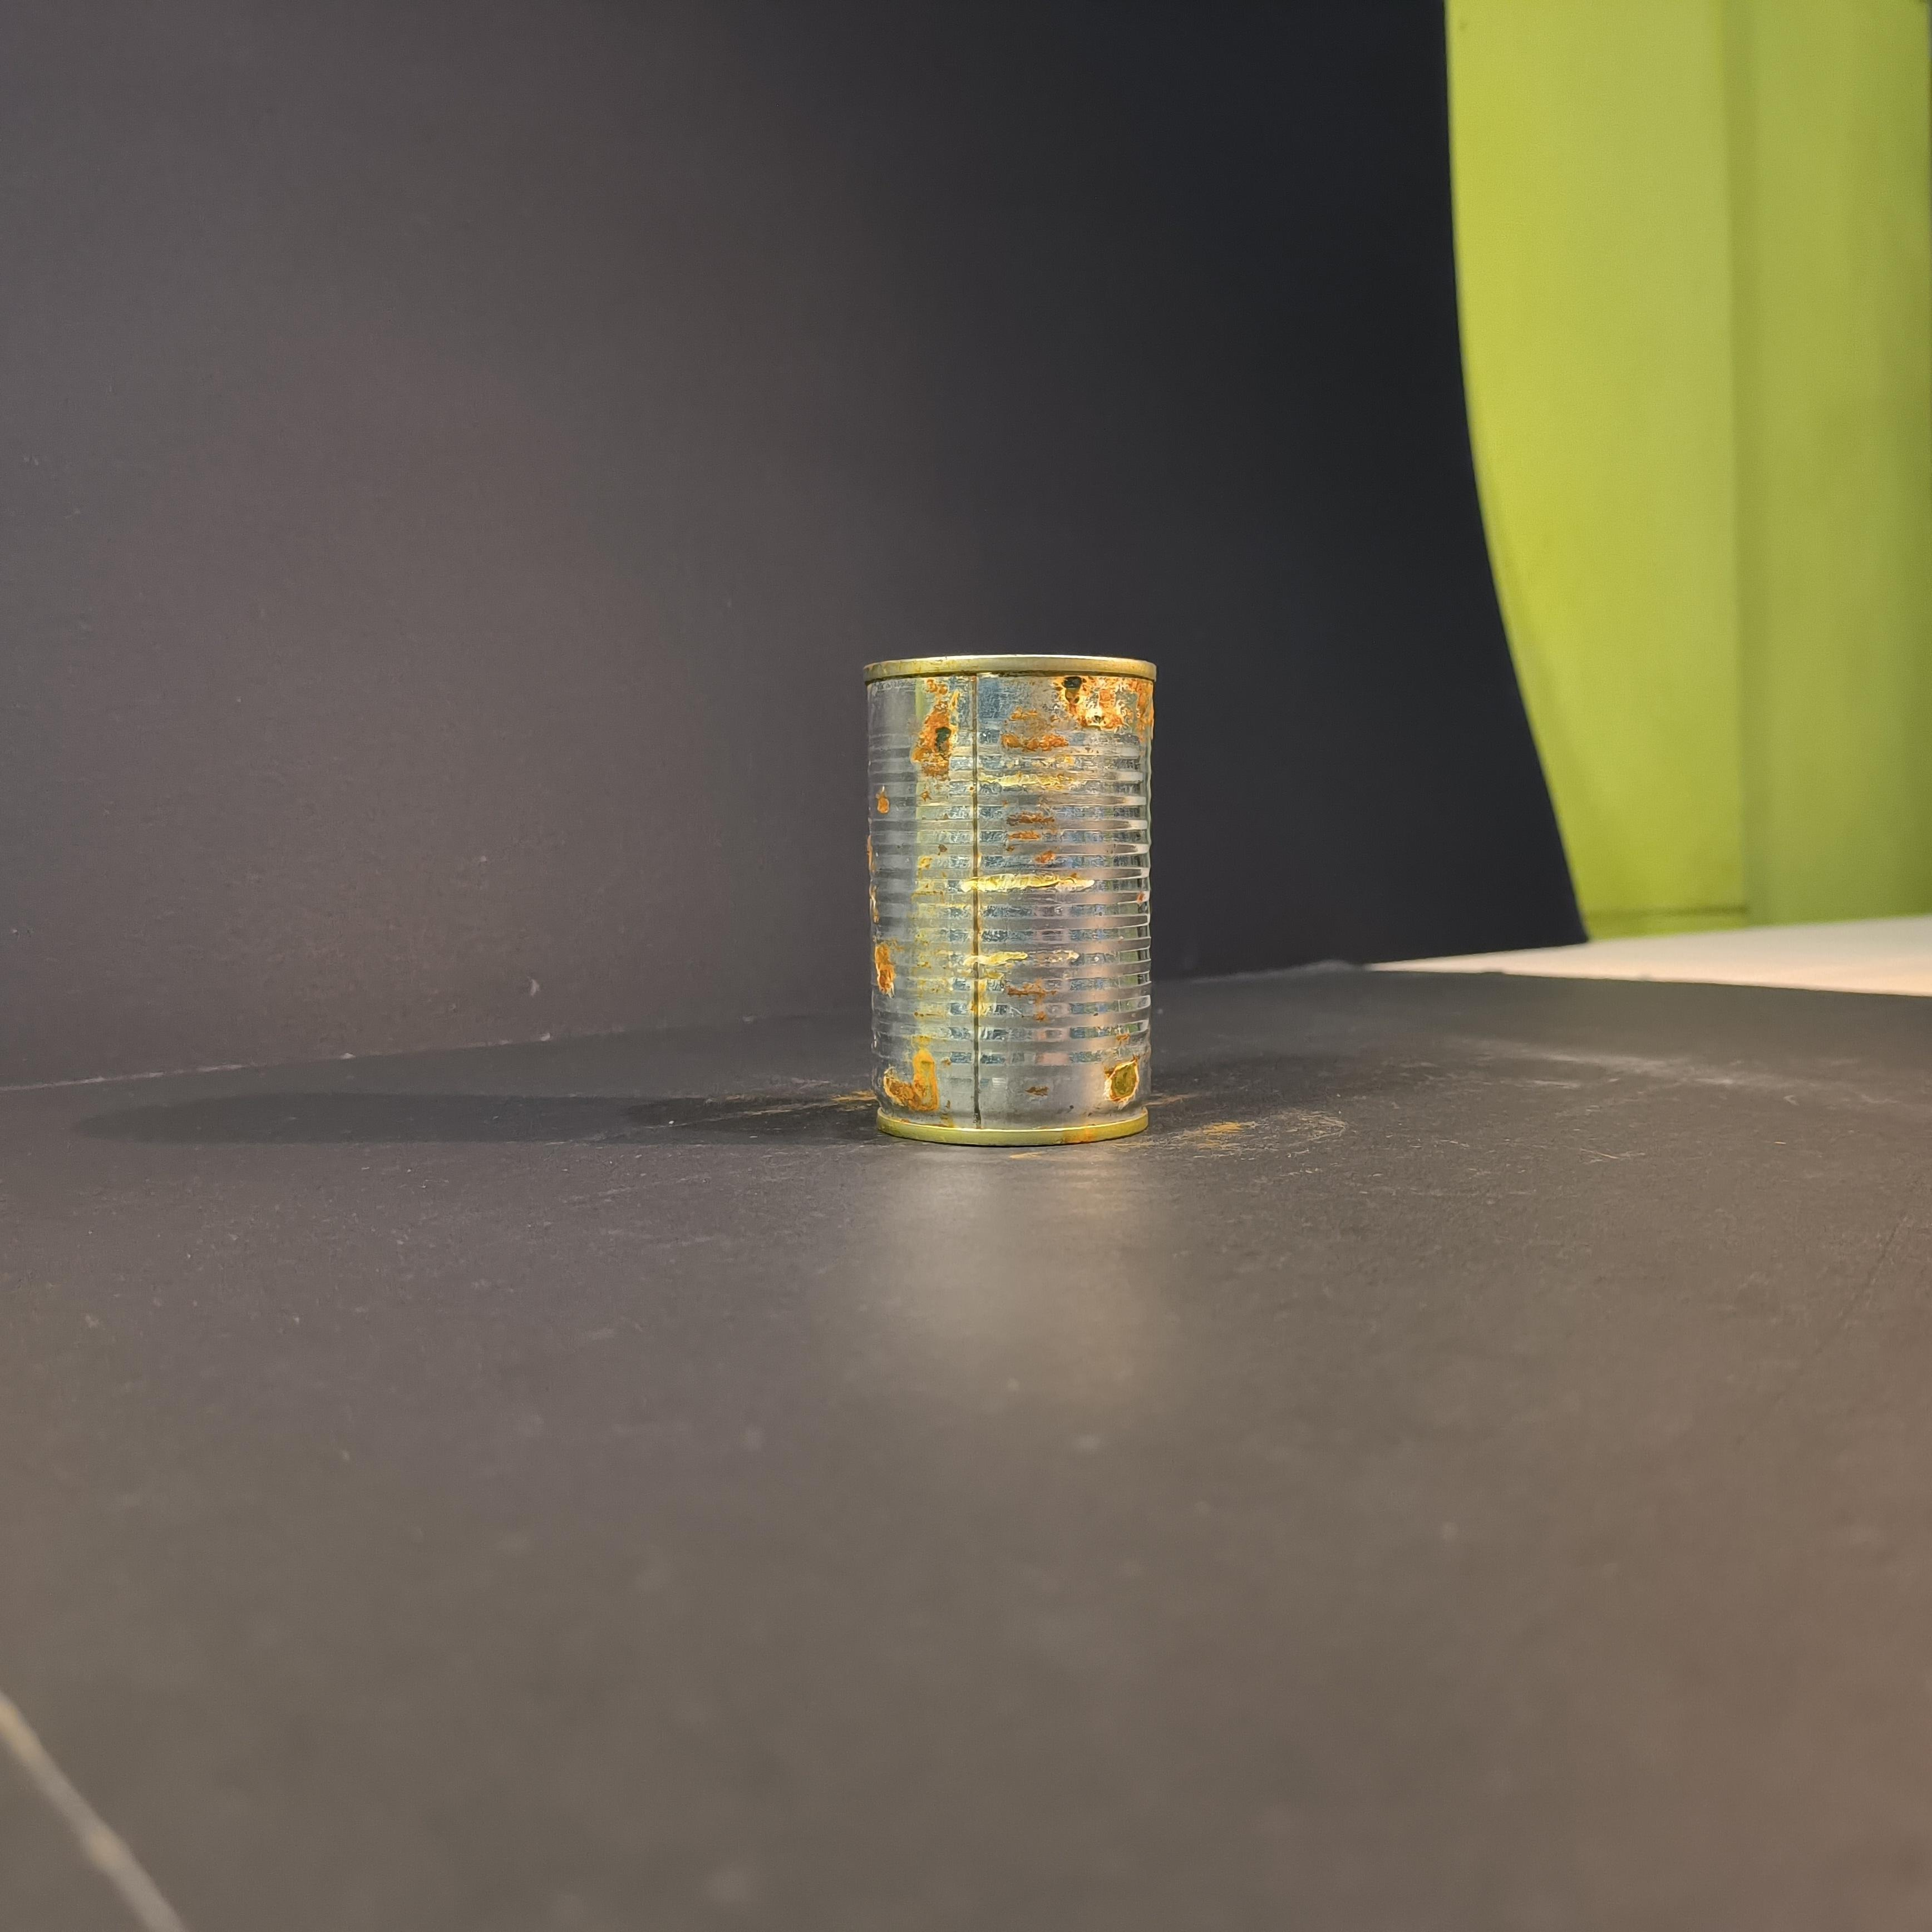Rusted: (863, 640, 1171, 1146)
